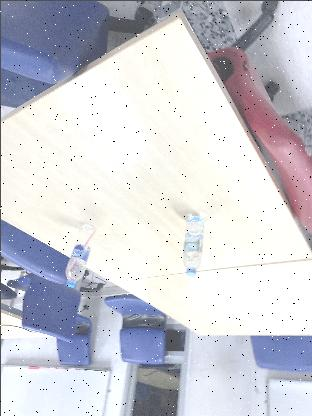Plastic Bottle: (65, 221, 94, 288), (181, 213, 203, 275)
